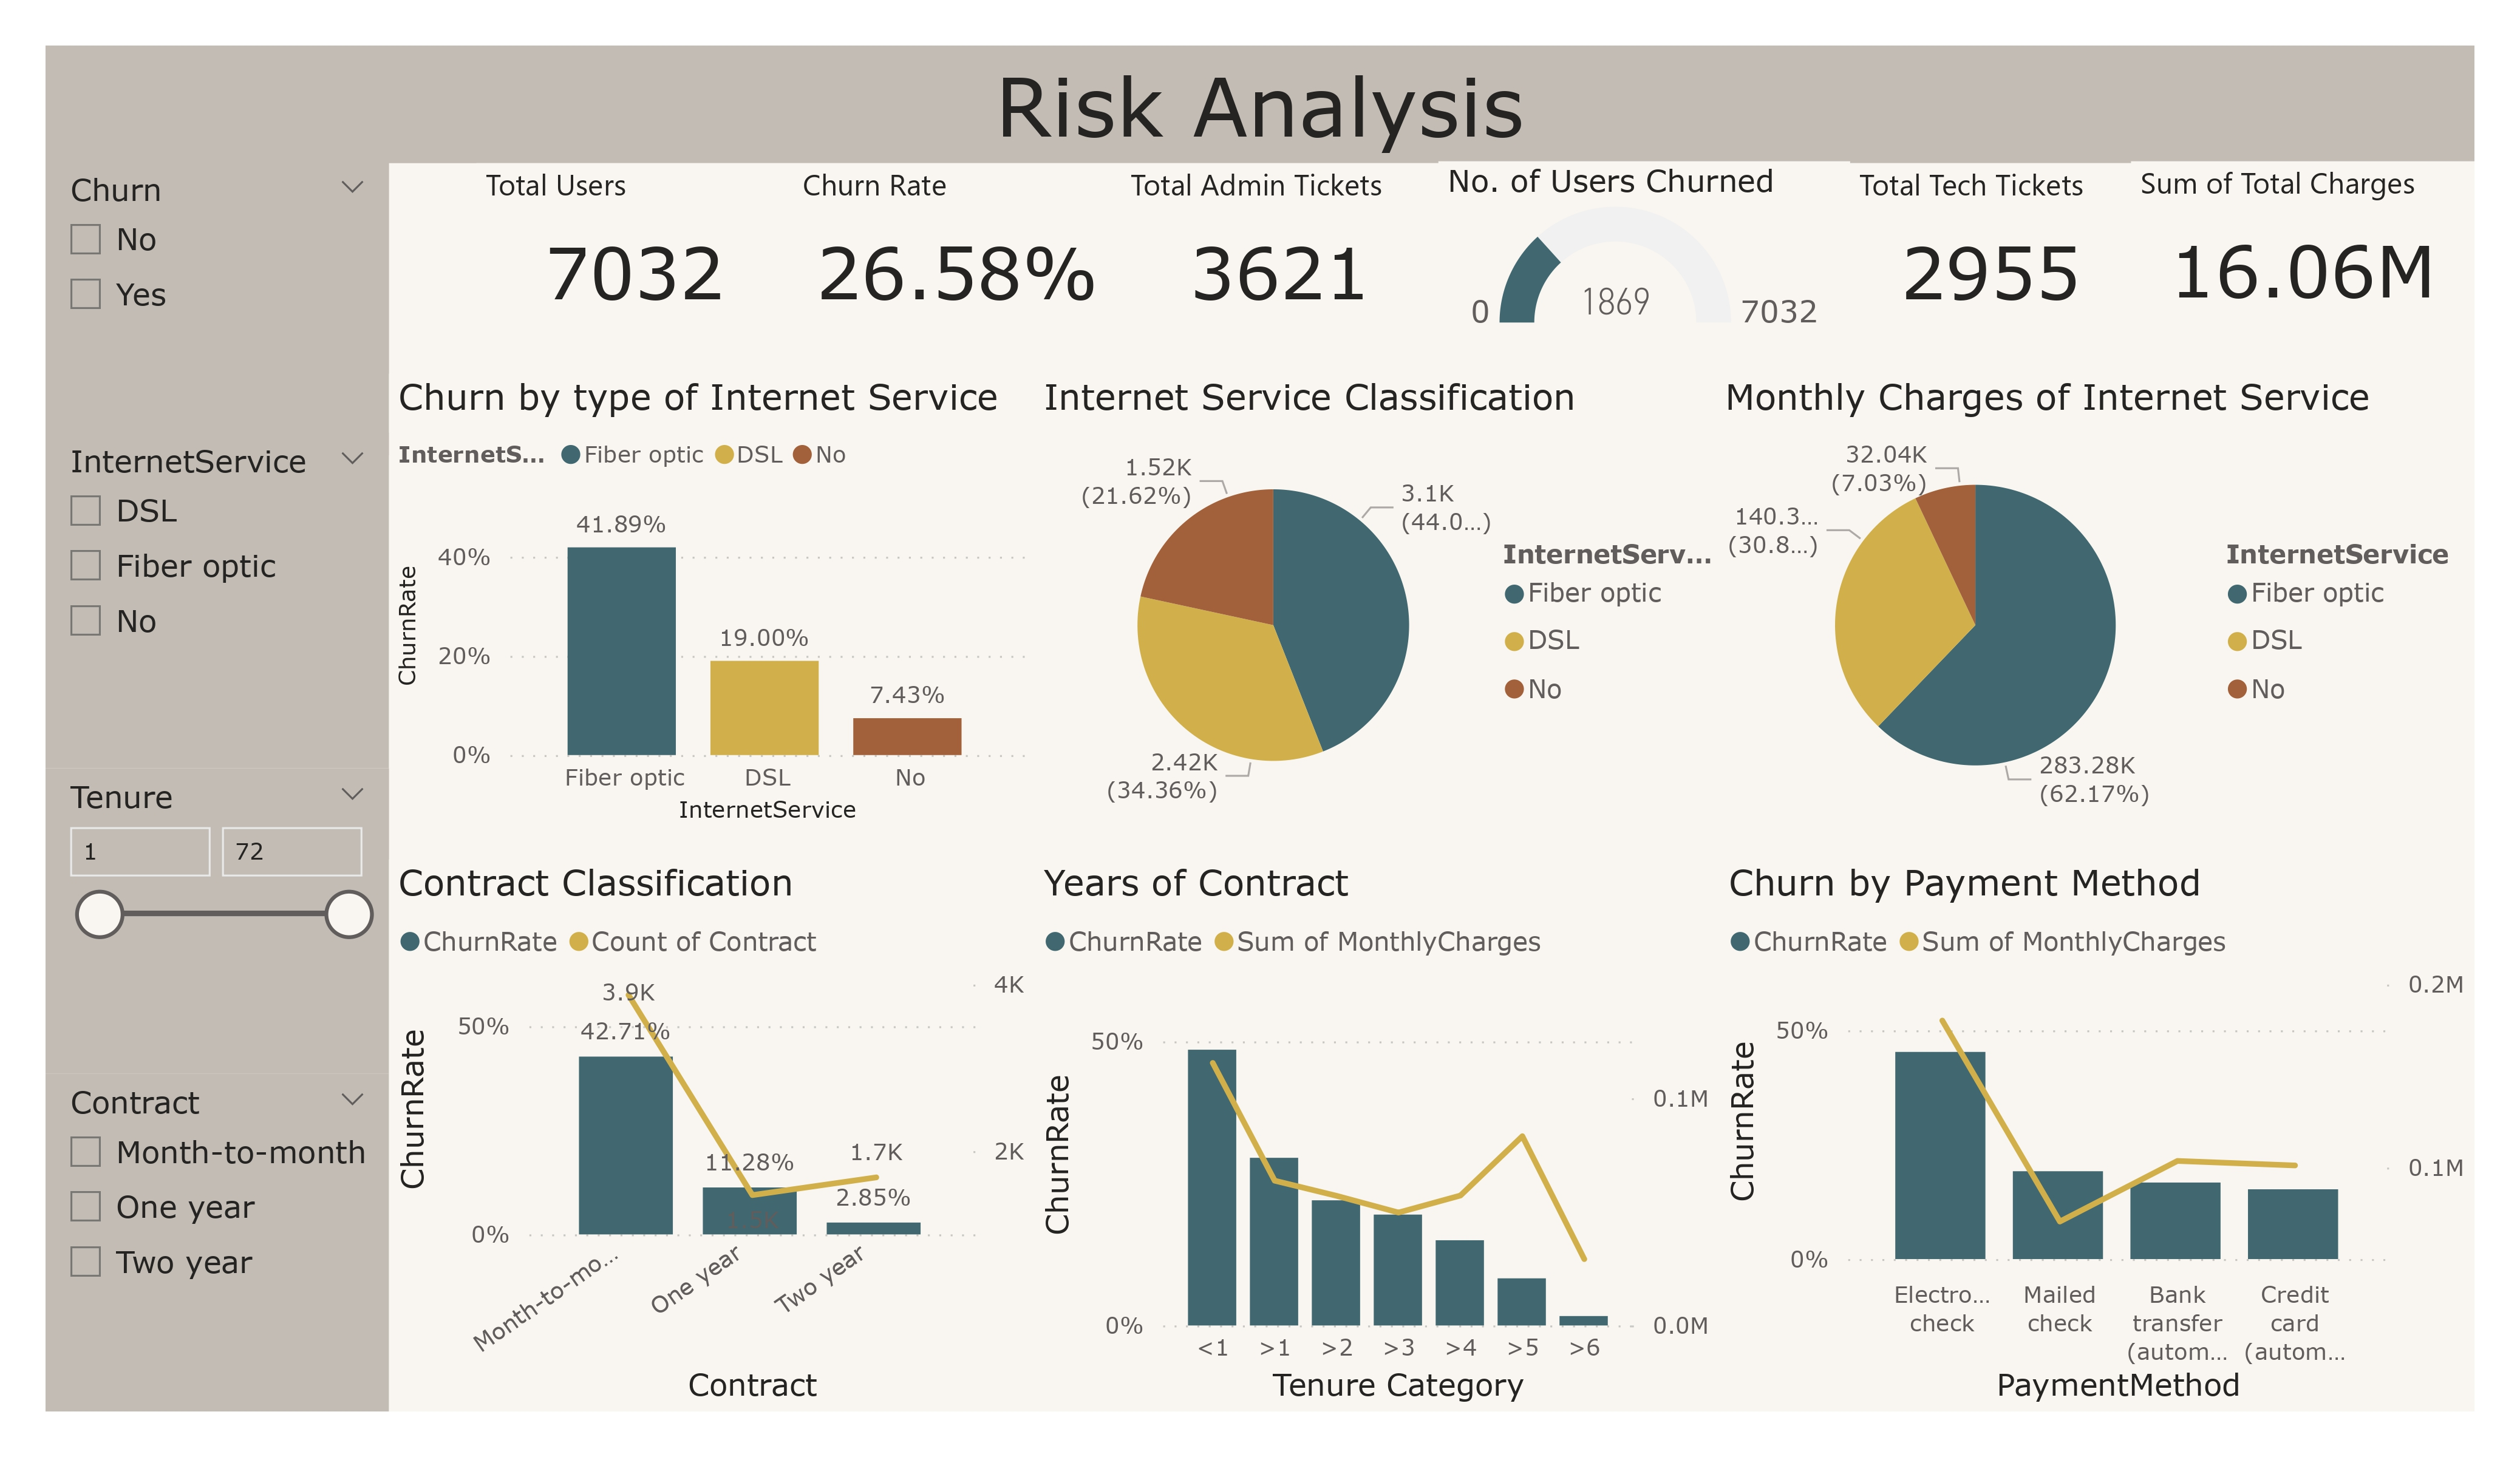

This screenshot's page, from the dashboard's own definition file:
{"tool":"powerbi","page":{"name":"Risk Analysis","canvas":[1280,720],"ordinal":1},"visuals":[{"type":"textbox","box":[0,0,1280,62.5],"z":0},{"type":"card","title":"Total Tech Tickets","fields":{"Values":["Sum(01 Churn-Dataset.numTechTickets)"]},"box":[951.1,62.5,147.9,94.3],"z":1000},{"type":"card","title":"Sum of Total Charges","fields":{"Values":["Sum(01 Churn-Dataset.TotalCharges)"]},"box":[1099,61.2,181,94.3],"z":2000},{"type":"card","title":"Total Admin Tickets","fields":{"Values":["Sum(01 Churn-Dataset.numAdminTickets)"]},"box":[567.3,62.5,167,94.3],"z":3000},{"type":"card","title":"Churn Rate","fields":{"Values":["01 Churn-Dataset.ChurnRate"]},"box":[393.9,62.5,173.4,94.3],"z":4000},{"type":"gauge","title":"No. of Users Churned","fields":{"MaxValue":["CountNonNull(01 Churn-Dataset.customerID)"],"Y":["01 Churn-Dataset.YesInternetService"]},"box":[734.3,61.2,216.7,94.3],"z":5000},{"type":"card","title":"Total Users","fields":{"Values":["CountNonNull(01 Churn-Dataset.customerID)"]},"box":[226.9,62.5,167,94.3],"z":6000},{"type":"slicer","fields":{"Values":["01 Churn-Dataset.Churn"]},"box":[0,61.2,180.7,154.6],"z":7000},{"type":"slicer","fields":{"Values":["01 Churn-Dataset.InternetService"]},"box":[0,203.6,180.7,177.6],"z":8000},{"type":"slicer","fields":{"Values":["01 Churn-Dataset.Contract"]},"box":[0,542,180.7,177.6],"z":9000},{"type":"columnChart","title":"Churn by type of Internet Service","fields":{"Category":["01 Churn-Dataset.InternetService"],"Series":["01 Churn-Dataset.InternetService"],"Y":["01 Churn-Dataset.ChurnRate"]},"box":[180.7,173,339.9,241.9],"z":10000},{"type":"pieChart","title":"Internet Service Classification","fields":{"Y":["CountNonNull(01 Churn-Dataset.customerID)"],"Category":["01 Churn-Dataset.InternetService"]},"box":[520.6,173,361.3,241.9],"z":11000},{"type":"pieChart","title":"Monthly Charges of Internet Service","fields":{"Y":["Sum(01 Churn-Dataset.MonthlyCharges)"],"Category":["01 Churn-Dataset.InternetService"]},"box":[880.4,173,399.6,241.9],"z":12000},{"type":"slicer","fields":{"Values":["01 Churn-Dataset.tenure"]},"box":[0,381.2,180.7,160.8],"z":13000},{"type":"lineStackedColumnComboChart","title":"Contract  Classification","fields":{"Category":["01 Churn-Dataset.Contract"],"Y":["01 Churn-Dataset.ChurnRate"],"Y2":["CountNonNull(01 Churn-Dataset.Contract)"]},"box":[180.7,428.7,339.9,290.9],"z":14000},{"type":"lineStackedColumnComboChart","title":"Years of Contract","fields":{"Category":["01 Churn-Dataset.Tenure Category"],"Y":["01 Churn-Dataset.ChurnRate"],"Y2":["Sum(01 Churn-Dataset.MonthlyCharges)"]},"box":[520.6,428.7,361.3,290.9],"z":15000},{"type":"lineStackedColumnComboChart","title":"Churn by Payment Method","fields":{"Y":["01 Churn-Dataset.ChurnRate"],"Category":["01 Churn-Dataset.PaymentMethod"],"Y2":["Sum(01 Churn-Dataset.MonthlyCharges)"]},"box":[881.9,428.7,398.1,290.9],"z":16000}]}

Visuals, with their boxes in screenshot pixels (x1, y1, x2, y2):
textbox: bbox=(46, 46, 2474, 164)
"Total Tech Tickets" card: bbox=(1850, 164, 2131, 343)
"Sum of Total Charges" card: bbox=(2131, 161, 2474, 341)
"Total Admin Tickets" card: bbox=(1122, 164, 1439, 343)
"Churn Rate" card: bbox=(793, 164, 1122, 343)
"No. of Users Churned" gauge: bbox=(1439, 161, 1850, 341)
"Total Users" card: bbox=(476, 164, 793, 343)
slicer - 01 Churn-Dataset.Churn: bbox=(46, 161, 389, 455)
slicer - 01 Churn-Dataset.InternetService: bbox=(46, 432, 389, 769)
slicer - 01 Churn-Dataset.Contract: bbox=(46, 1074, 389, 1411)
"Churn by type of Internet Service" columnChart: bbox=(389, 374, 1034, 833)
"Internet Service Classification" pieChart: bbox=(1034, 374, 1719, 833)
"Monthly Charges of Internet Service" pieChart: bbox=(1716, 374, 2474, 833)
slicer - 01 Churn-Dataset.tenure: bbox=(46, 769, 389, 1074)
"Contract  Classification" lineStackedColumnComboChart: bbox=(389, 859, 1034, 1411)
"Years of Contract" lineStackedColumnComboChart: bbox=(1034, 859, 1719, 1411)
"Churn by Payment Method" lineStackedColumnComboChart: bbox=(1719, 859, 2474, 1411)
